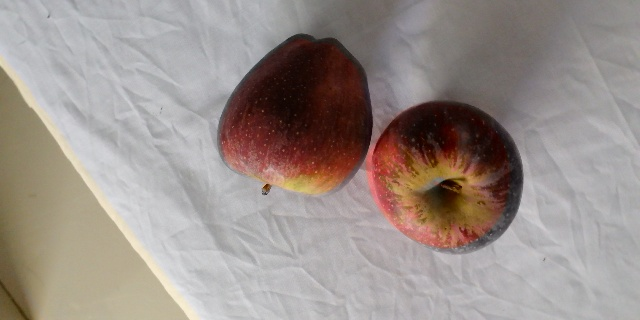apple_kashmir: (219, 34, 370, 203), (372, 100, 523, 255)
